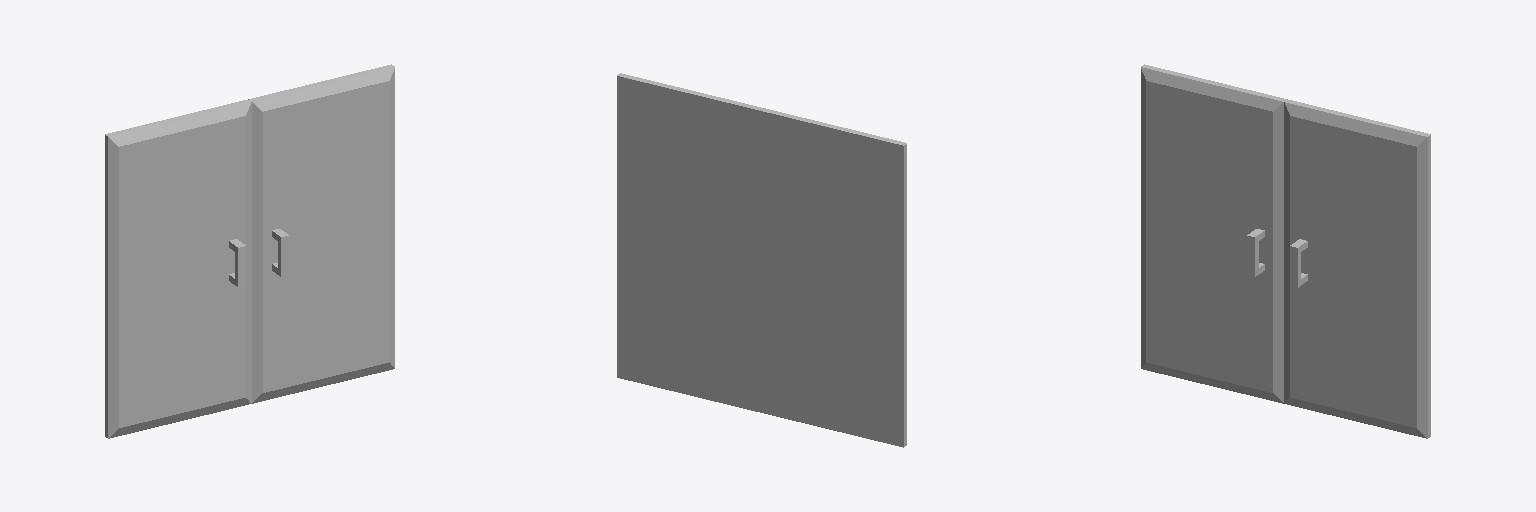
File: kitchen_counter_doors_1.obj
3 views of the same model, side by side, from view 1: azimuth 30°, elevation 25°; view 2: azimuth 150°, elevation 25°; view 3: azimuth 330°, elevation 25° (orthographic).
Size of the model in its own units: 12.96 by 13.02 by 1.22.